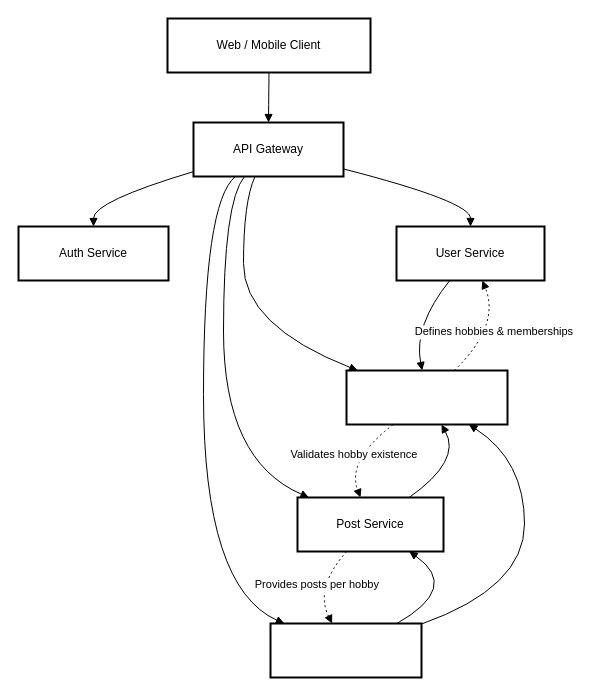
Some shapes in this 591 by 695 pixel diagram are drawn without their labels. The centre of each missing label's shape, as x and y in pixels:
"Feed Service" belongs at pixel 345 650.
"Hobby Service" belongs at pixel 426 397.
